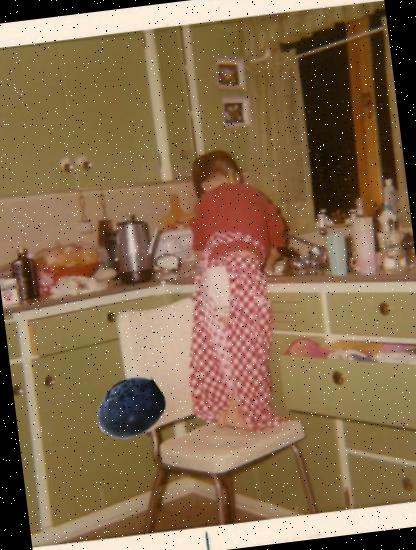Blueberry: (90, 368, 170, 448)
